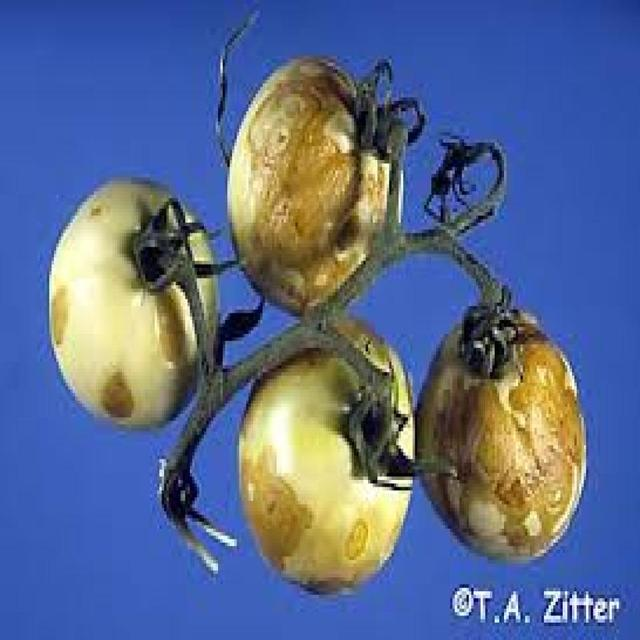Spotted wilt Virus Fruit: (89, 122, 335, 307)
